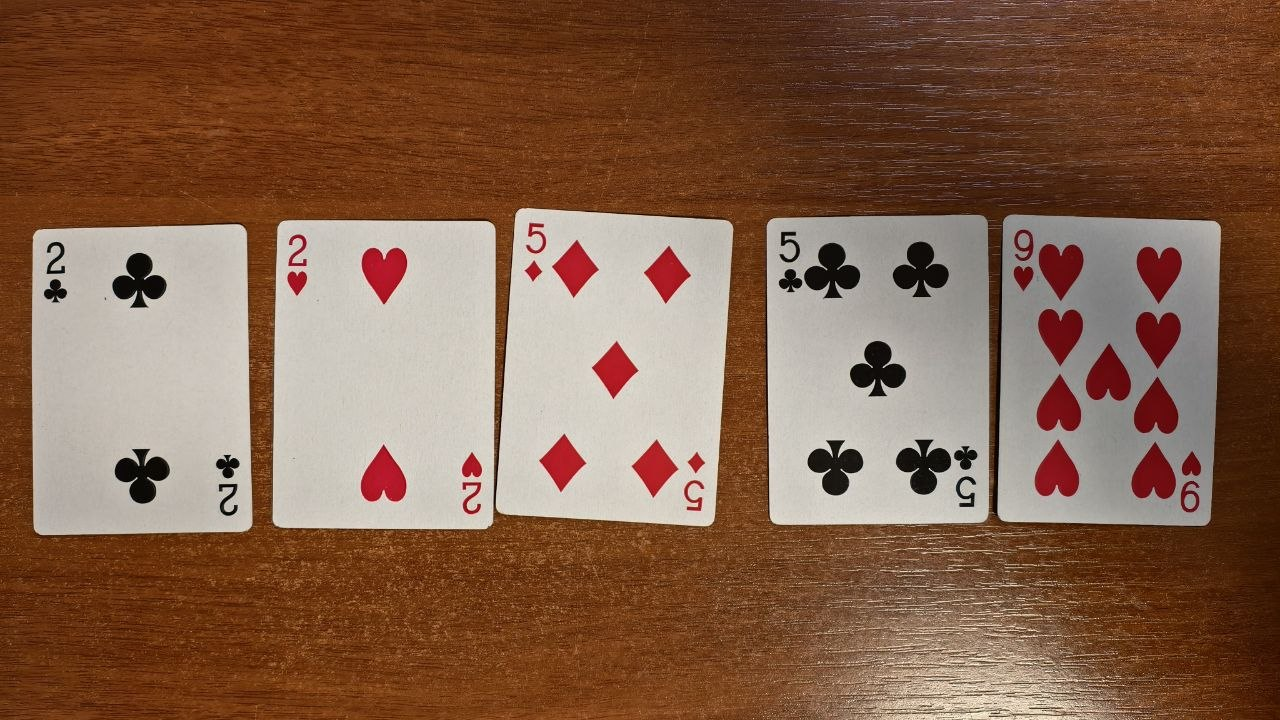2C: (31, 223, 253, 536)
2H: (272, 217, 495, 530)
5C: (764, 213, 990, 526)
5D: (497, 206, 735, 527)
9H: (997, 211, 1224, 528)
